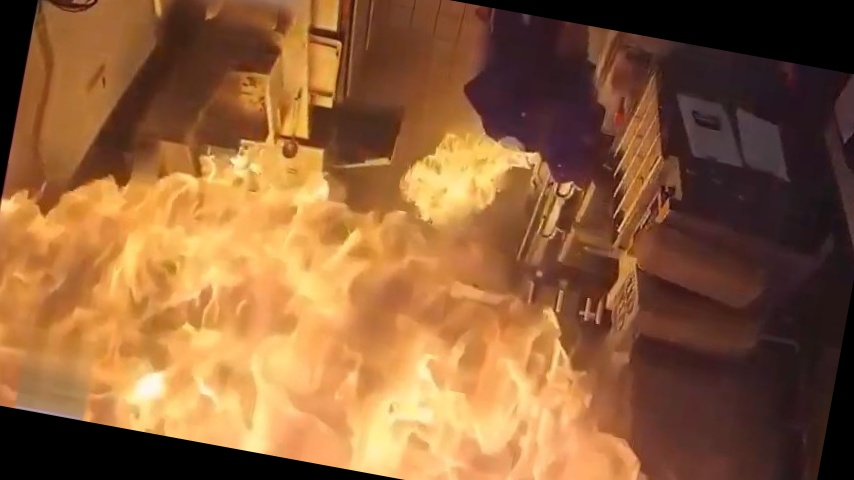fire: (0, 85, 733, 480)
